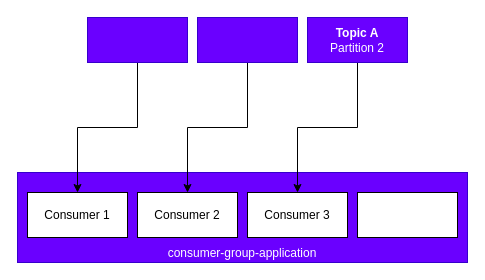
Some shapes in this 485 by 280 pixel diagram are drawn without their labels. Each missing label, with the box of its shape:
Consumer 4 (inactive): (356, 192, 458, 238)
Topic A Partition 0: (86, 16, 188, 62)
Topic A Partition 1: (196, 16, 298, 62)
